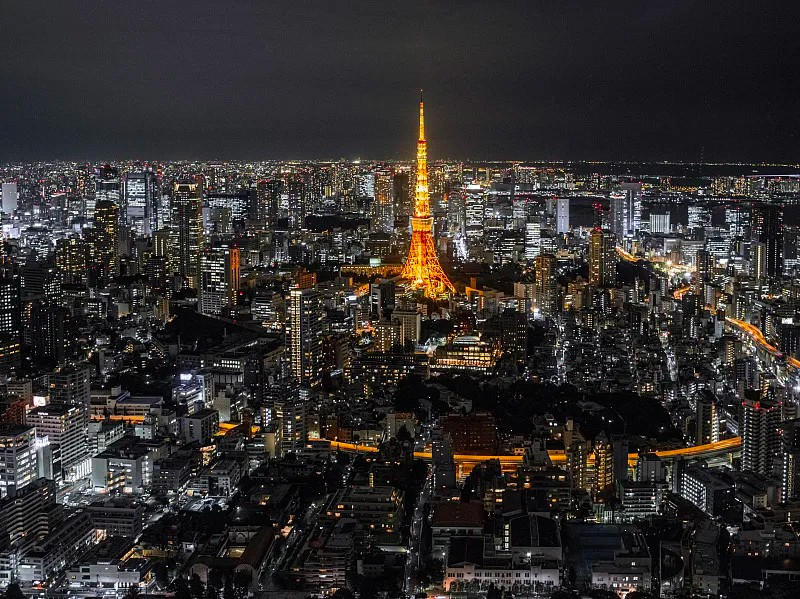Tokyo: (402, 86, 457, 296)
